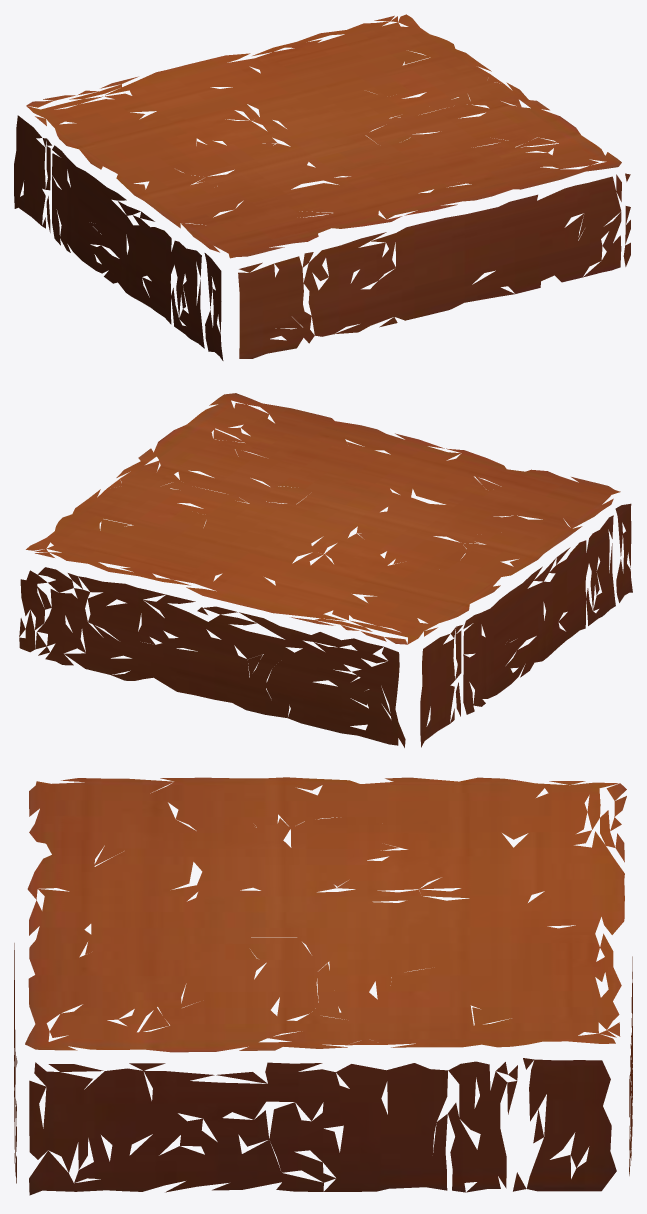
File: floor.glb
3 renders of one model, top to bottom at view 1: azimuth 30°, elevation 25°; view 2: azimuth 150°, elevation 25°; view 3: azimuth 270°, elevation 25°, orthographic. The views are drawn at different scales.
Parts seen in each view (by area): view 1: world; view 2: world; view 3: world.
Boxes of the visible parts, x1,y1,x2,y2 form: world: (14, 14, 630, 360); world: (19, 393, 632, 747); world: (14, 777, 632, 1195).
Bounding box in the file's own units: 0.9918 × 0.2431 × 0.9125.
1 material, 1 textured.
